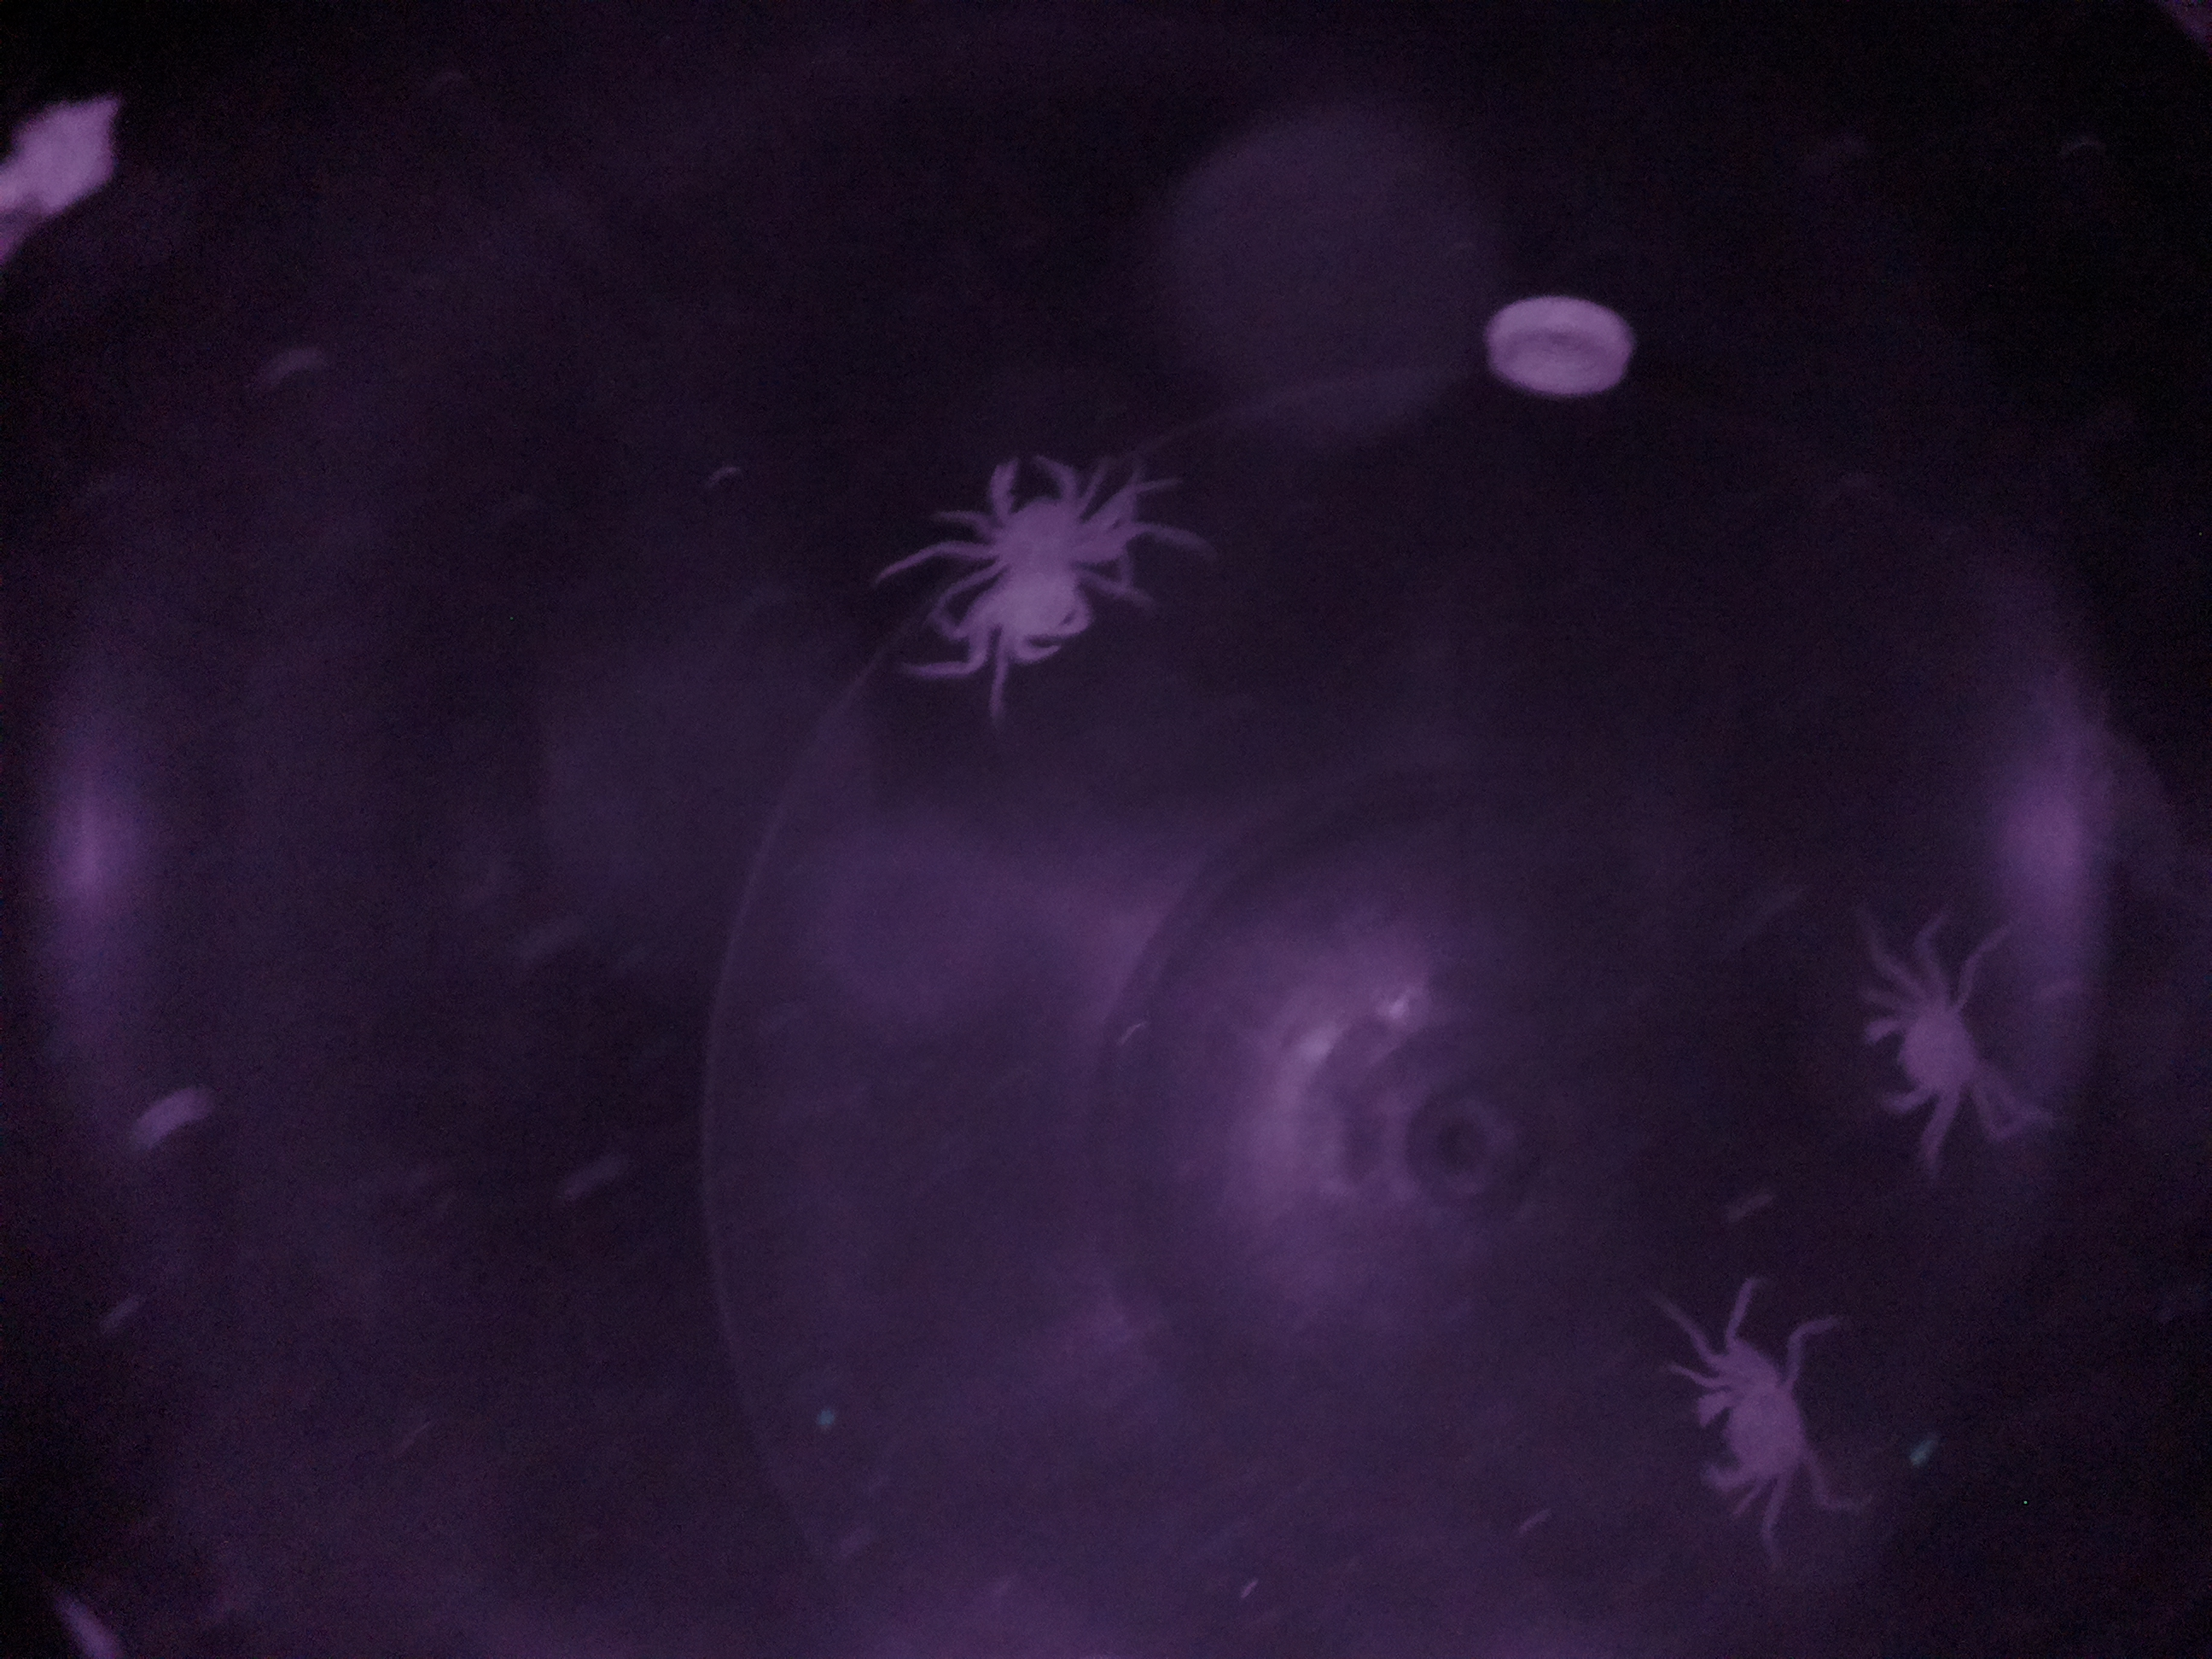Crab: (1848, 948, 2022, 1159), (1681, 1321, 1827, 1527)
